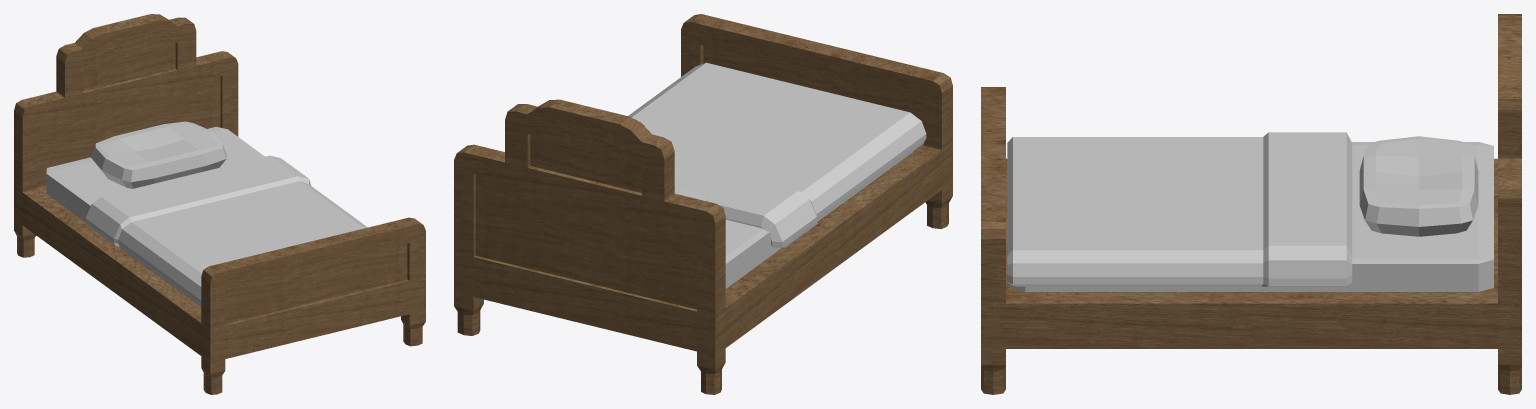
Rendered from Bett.fbx.
The picture shows the model from 3 angles, left to right: view 1: azimuth 30°, elevation 25°; view 2: azimuth 150°, elevation 25°; view 3: azimuth 270°, elevation 25°; orthographic projection. The views are drawn at different scales.
Parts seen in each view (by area): view 1: Bett; view 2: Bett; view 3: Bett.
Boxes of the visible parts, x1,y1,x2,y2 form: Bett: [14, 14, 425, 394]; Bett: [454, 14, 952, 394]; Bett: [981, 14, 1521, 394].
Bounding box in the file's own units: 329 × 299 × 518.
